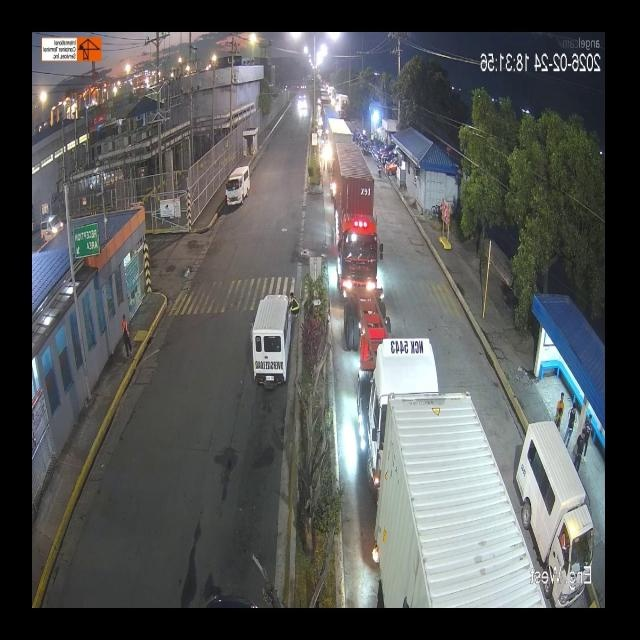car: (536, 434, 596, 598), (249, 286, 299, 390), (228, 162, 252, 207)
truck: (88, 386, 552, 604), (200, 292, 334, 490), (258, 144, 376, 289), (286, 113, 326, 169)
